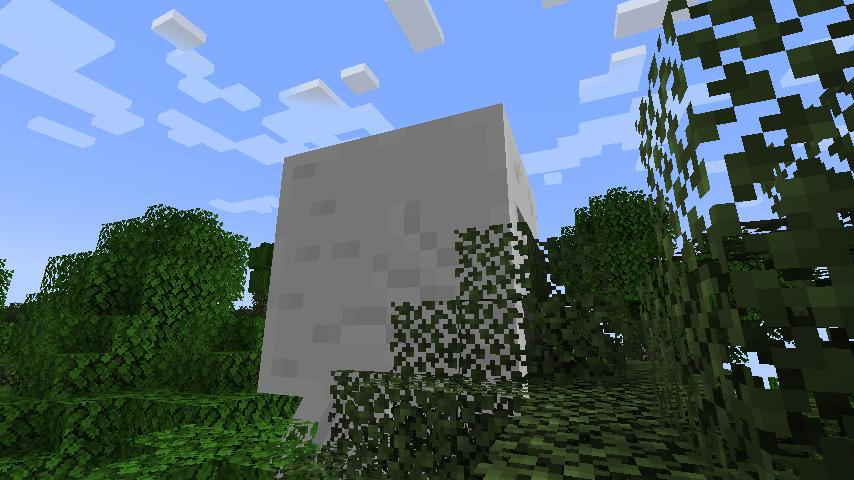ghast: (256, 99, 541, 446)
